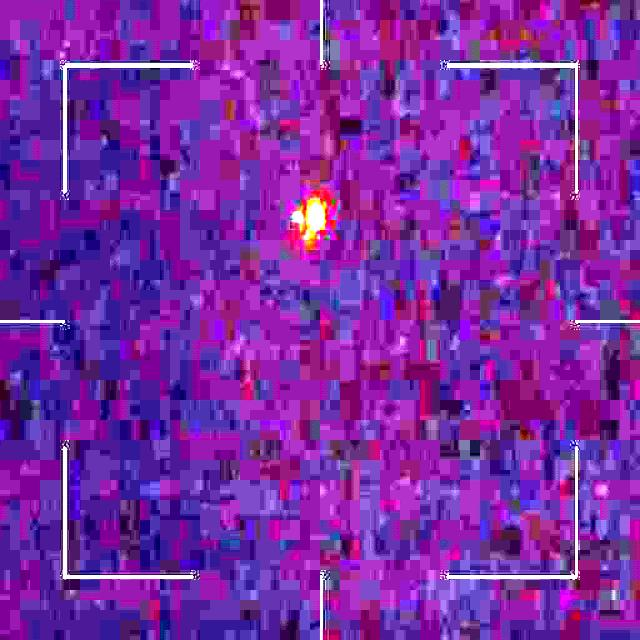bird: (294, 199, 326, 245)
